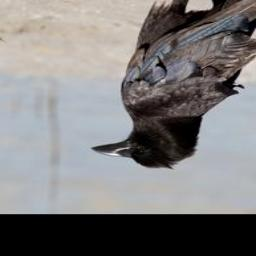Crow: (89, 0, 256, 171)
